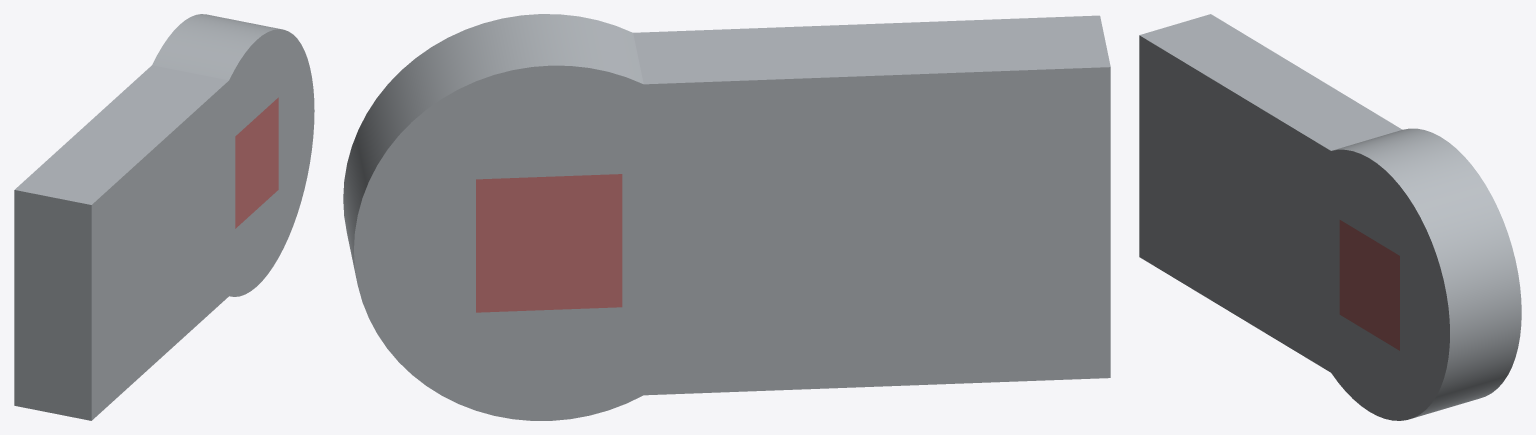
File: step_02.glb
3 renders of one model, left to right at view 1: azimuth 30°, elevation 25°; view 2: azimuth 150°, elevation 25°; view 3: azimuth 270°, elevation 25°, orthographic. The views are drawn at different scales.
Visible parts, largest first — view 1: part__lock cam, removed__lock cam; view 2: part__lock cam, removed__lock cam; view 3: part__lock cam, removed__lock cam.
Part boxes in pixels (bbox=[...]): part__lock cam: bbox=[14, 14, 314, 420]; removed__lock cam: bbox=[235, 97, 278, 228]; part__lock cam: bbox=[343, 14, 1110, 420]; removed__lock cam: bbox=[476, 174, 622, 312]; part__lock cam: bbox=[1139, 14, 1521, 420]; removed__lock cam: bbox=[1339, 220, 1399, 350].
Bounding box in the file's own units: 14.13 × 8 × 10.94.
